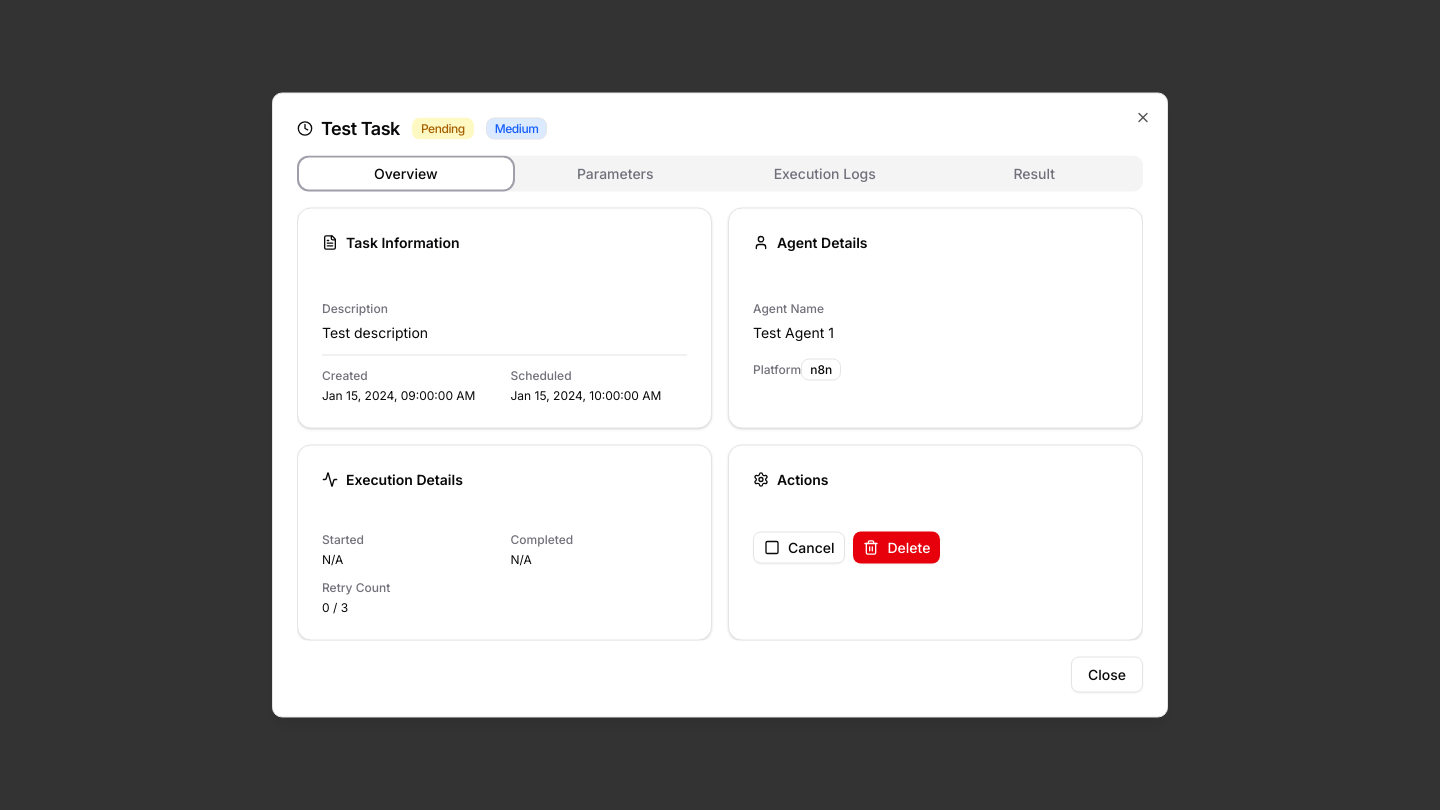
TaskDetailModal › displays parameters in parameters tab
The image size is (1440, 810).
Click the tab "Parameters": (615, 174) [510,160,720,188]
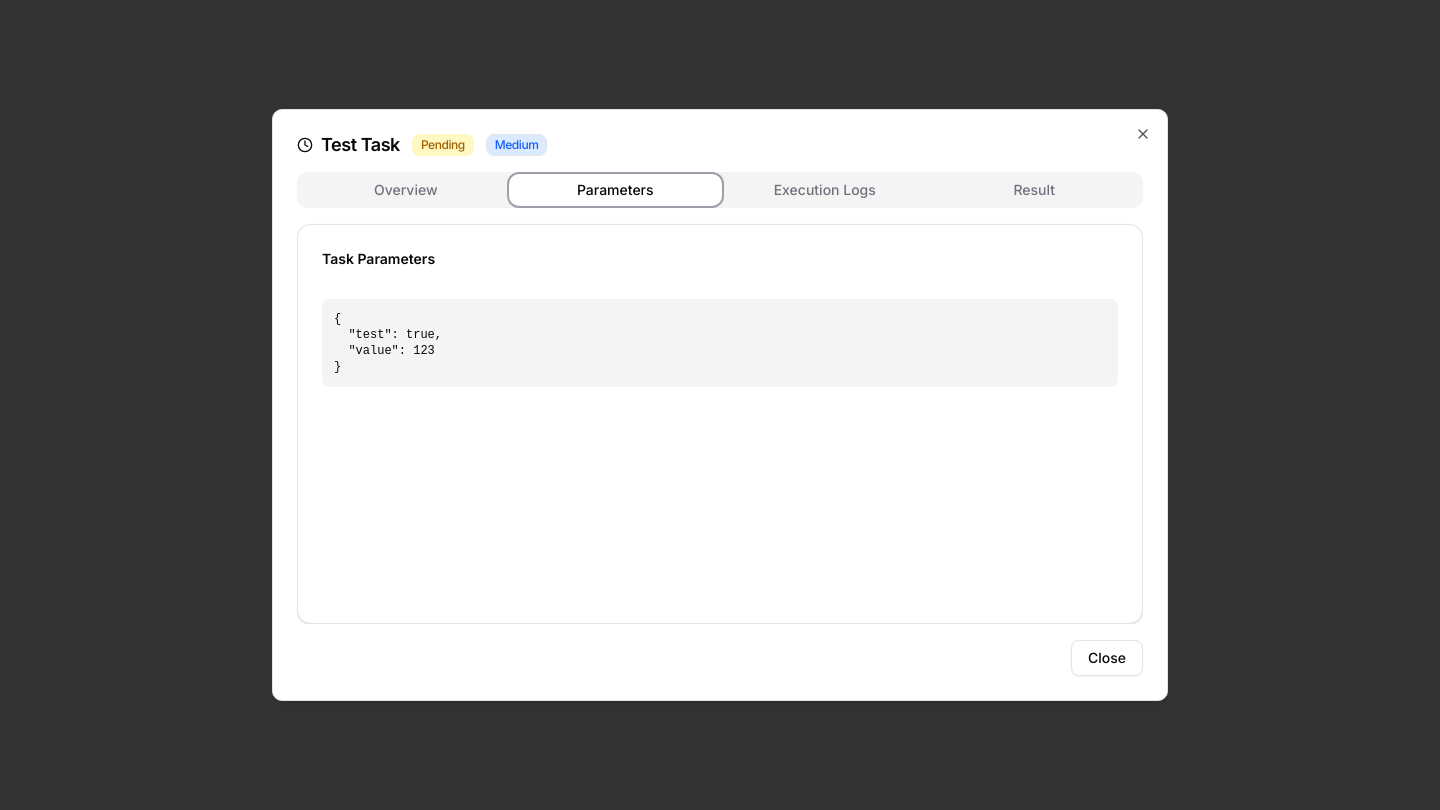
Expected: the text "{ \"test\": true, \"value\": 123 }" is shown, [322,299,1118,387]
